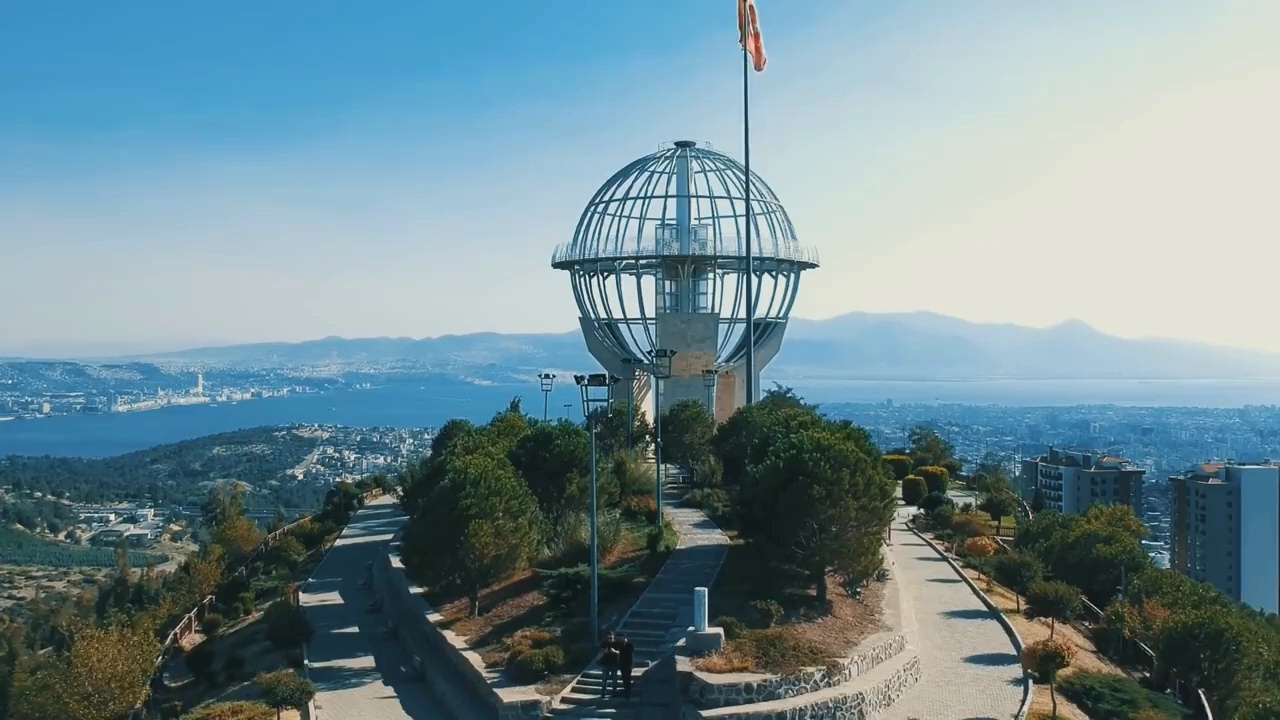insan: (618, 632, 638, 697), (600, 630, 619, 689)
